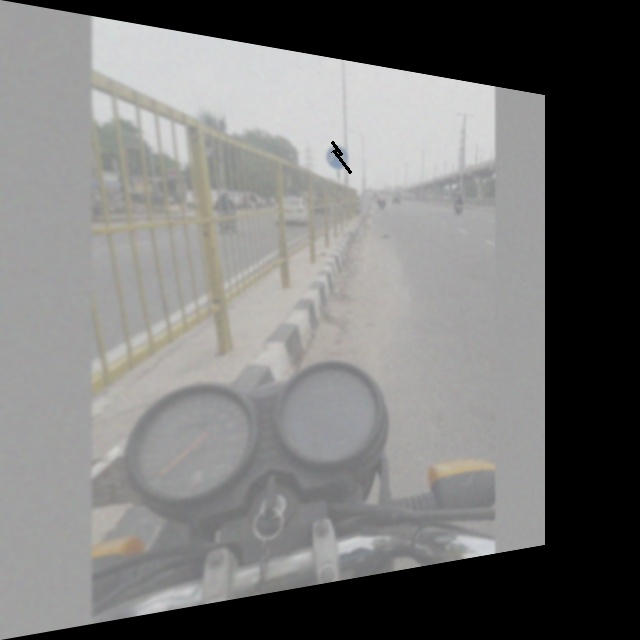Pass_Either_Side: (326, 140, 350, 175)
